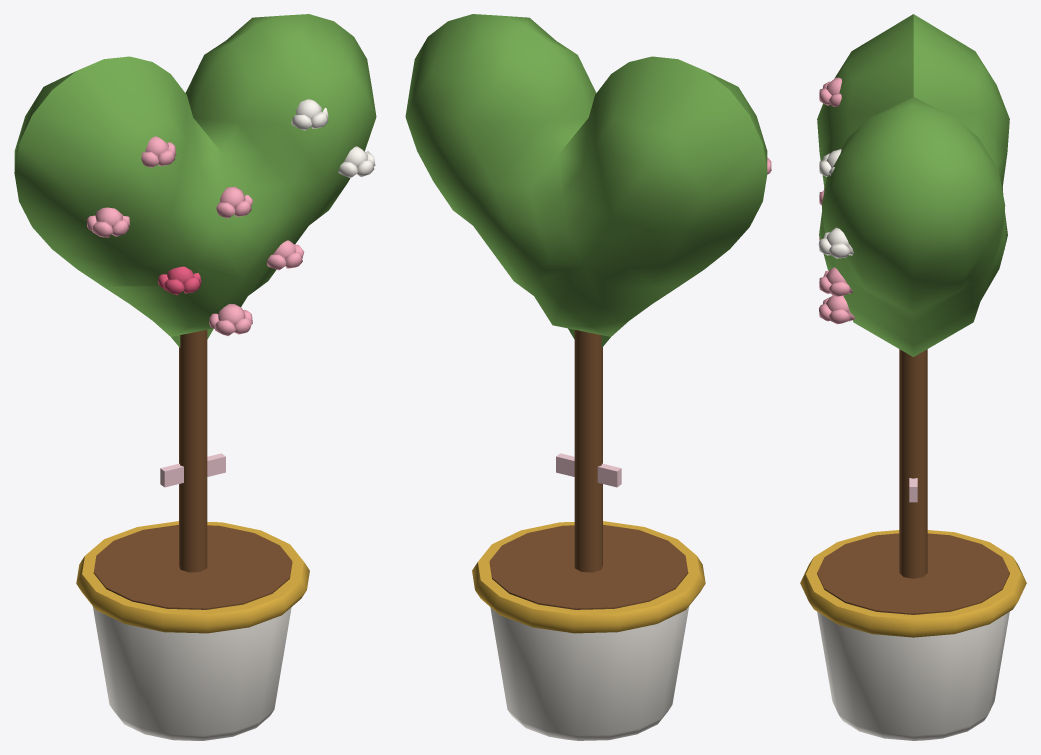
The model's file is topiaria_coracao.glb.
3 views of the same model, side by side, from view 1: azimuth 30°, elevation 25°; view 2: azimuth 150°, elevation 25°; view 3: azimuth 270°, elevation 25° (orthographic). The views are drawn at different scales.
Visible parts, largest first — view 1: Topiaria_Coracao; view 2: Topiaria_Coracao; view 3: Topiaria_Coracao.
Part boxes in pixels (x1,y1,x2,y2): Topiaria_Coracao: (14, 14, 376, 740); Topiaria_Coracao: (405, 14, 771, 740); Topiaria_Coracao: (800, 14, 1026, 740).
Bounding box in the file's own units: 0.7 × 1.26 × 0.4.
